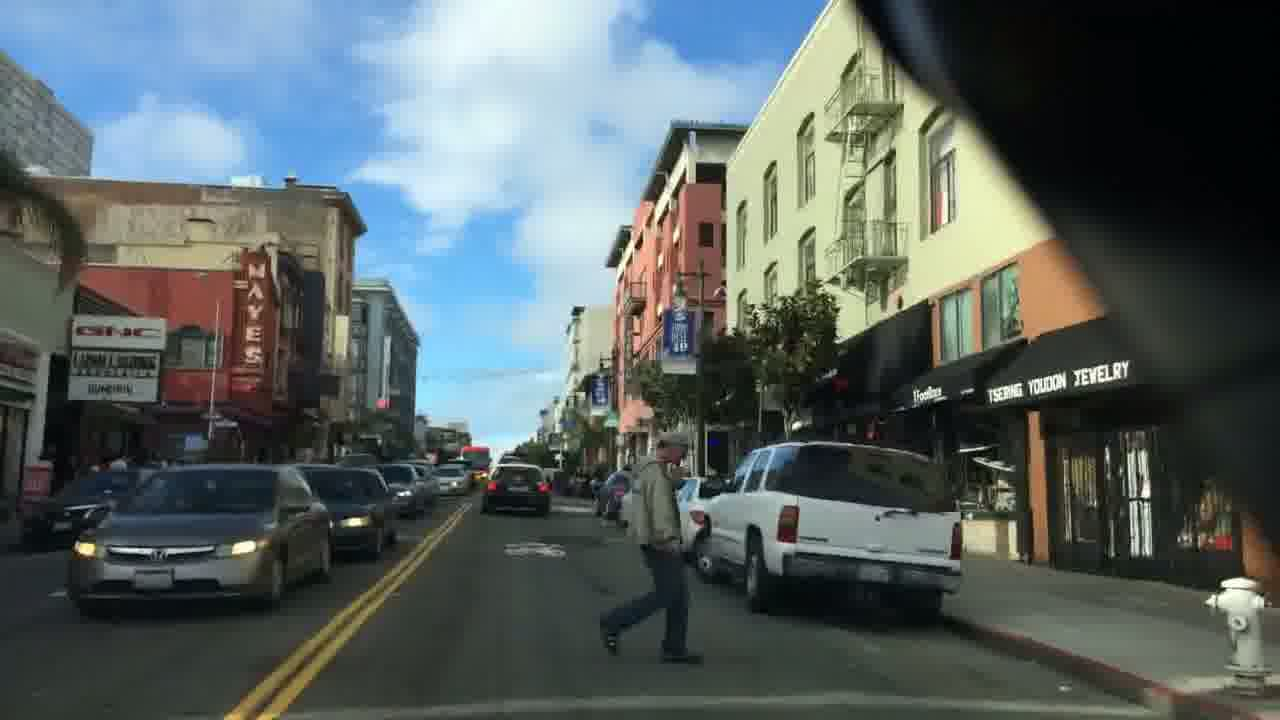car: (691, 439, 965, 620), (67, 463, 334, 618), (19, 464, 160, 551), (290, 462, 406, 561), (480, 461, 552, 514), (434, 463, 471, 496)
pedestrian: (597, 430, 705, 667)
